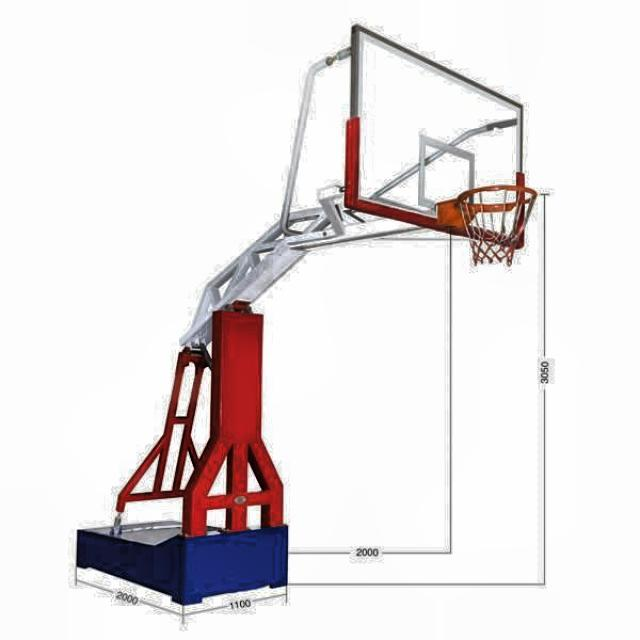rim: (458, 184, 537, 269)
